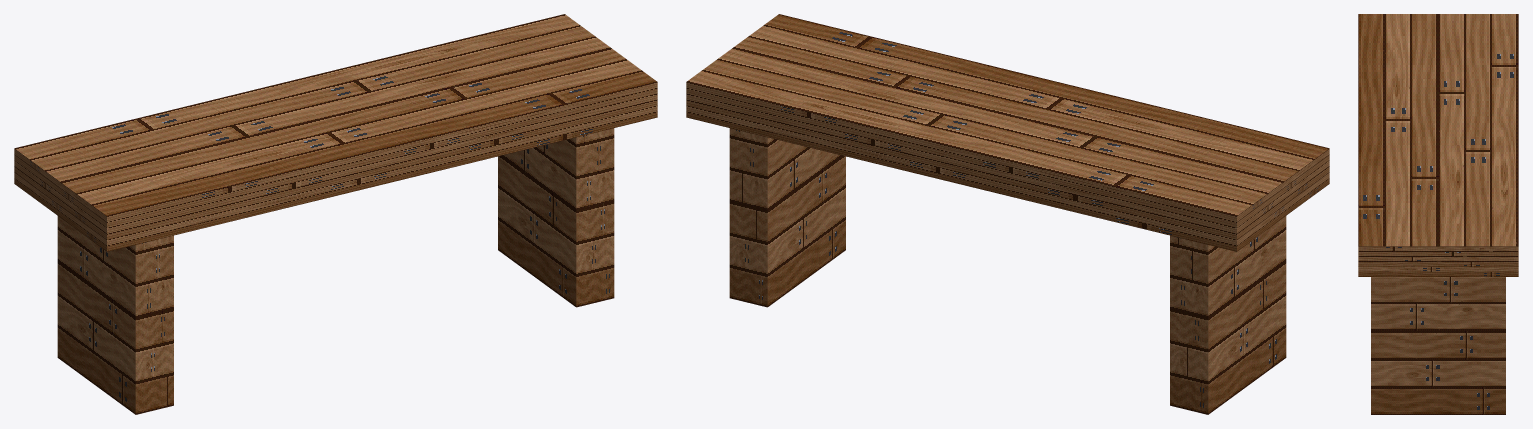
File: banco_de_igreja.glb
3 views of the same model, side by side, from view 1: azimuth 30°, elevation 25°; view 2: azimuth 150°, elevation 25°; view 3: azimuth 270°, elevation 25° (orthographic). The views are drawn at different scales.
Parts seen in each view (by area): view 1: banco_de_igreja; view 2: banco_de_igreja; view 3: banco_de_igreja.
Boxes of the visible parts, bbox=[...] form: banco_de_igreja: bbox=[14, 14, 657, 414]; banco_de_igreja: bbox=[686, 14, 1329, 414]; banco_de_igreja: bbox=[1358, 14, 1518, 414].
Size of the model in its own units: 1.3 by 0.48 by 0.38.
1 material, 1 textured.
